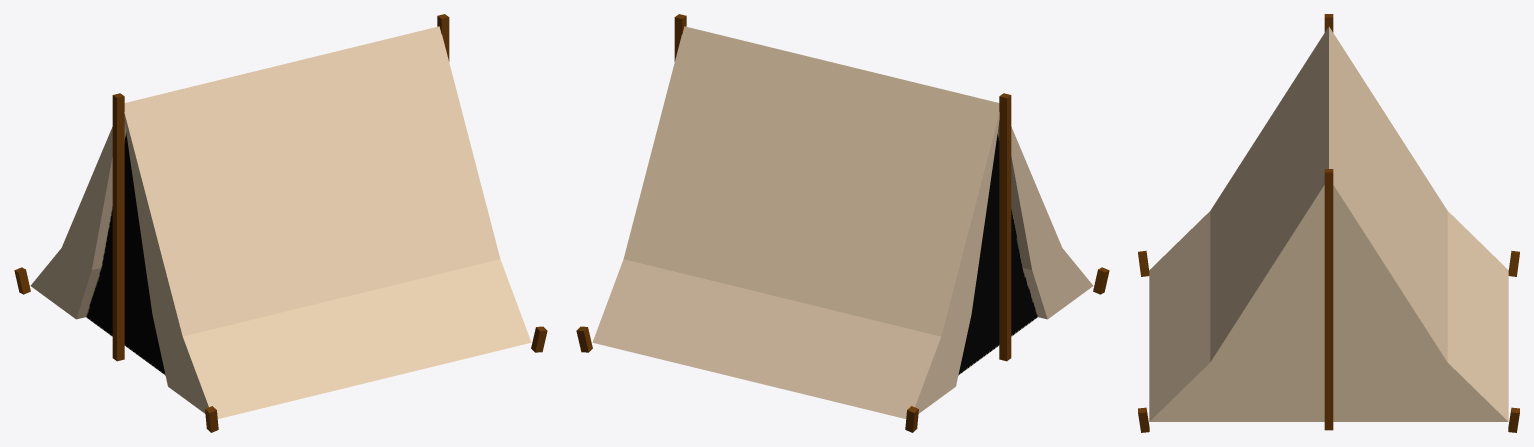
The model's file is Tent.fbx.
3 renders of one model, left to right at view 1: azimuth 30°, elevation 25°; view 2: azimuth 150°, elevation 25°; view 3: azimuth 270°, elevation 25°, orthographic. The views are drawn at different scales.
Visible parts, largest first — view 1: Pegs; view 2: Pegs; view 3: Pegs.
Boxes of the visible parts, x1,y1,x2,y2 form: Pegs: (14, 14, 547, 432); Pegs: (576, 14, 1109, 432); Pegs: (1138, 14, 1519, 432).
Bounding box in the file's own units: 213 × 160 × 213.
Materials: 3 (3 with a texture image).
